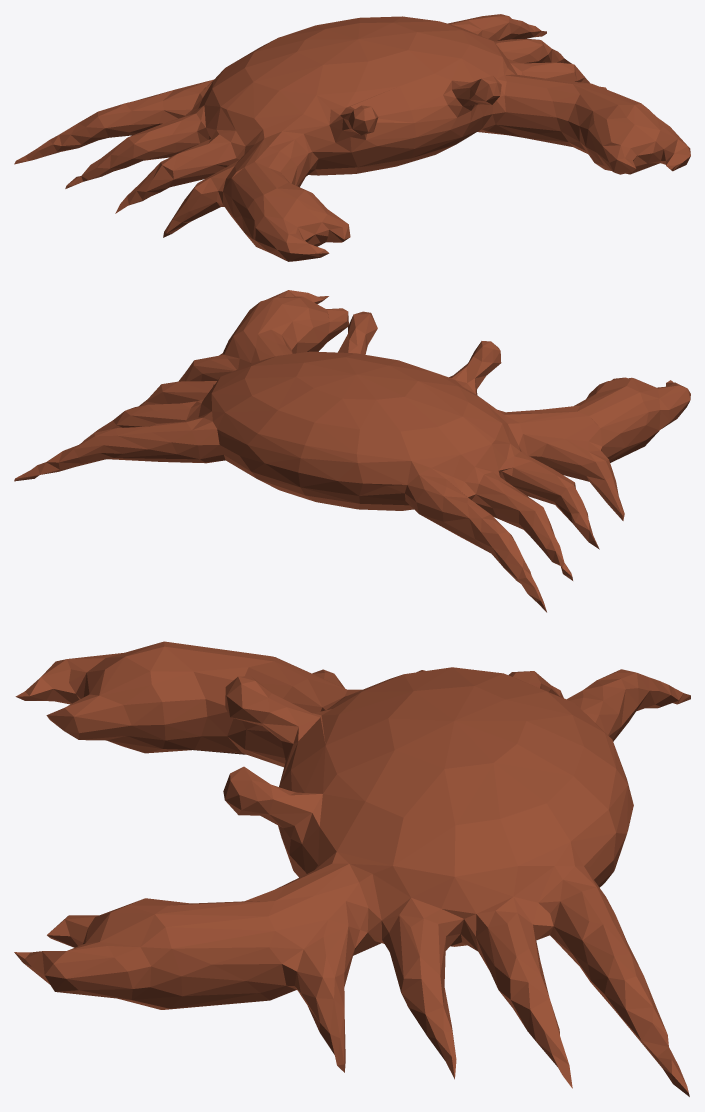
The model's file is NEW_RECOVERY_039_LOD1.fbx.
3 views of the same model, one above another, from view 1: azimuth 30°, elevation 25°; view 2: azimuth 150°, elevation 25°; view 3: azimuth 270°, elevation 25° (orthographic). The views are drawn at different scales.
Parts seen in each view (by area): view 1: Crab_Solid; view 2: Crab_Solid; view 3: Crab_Solid.
Boxes of the visible parts, left/top/right/bottom form: Crab_Solid: left=14, top=14, right=690, bottom=261; Crab_Solid: left=14, top=290, right=690, bottom=612; Crab_Solid: left=14, top=641, right=690, bottom=1096.
Size of the model in its own units: 412 by 295 by 86.24.
